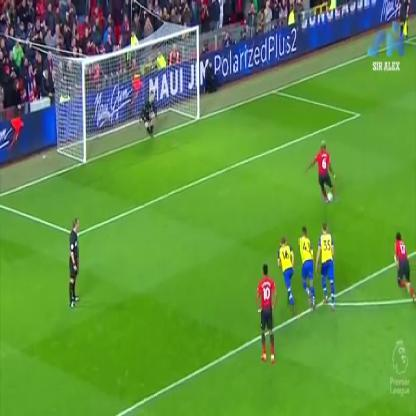penalty kick: (42, 40, 350, 210)
